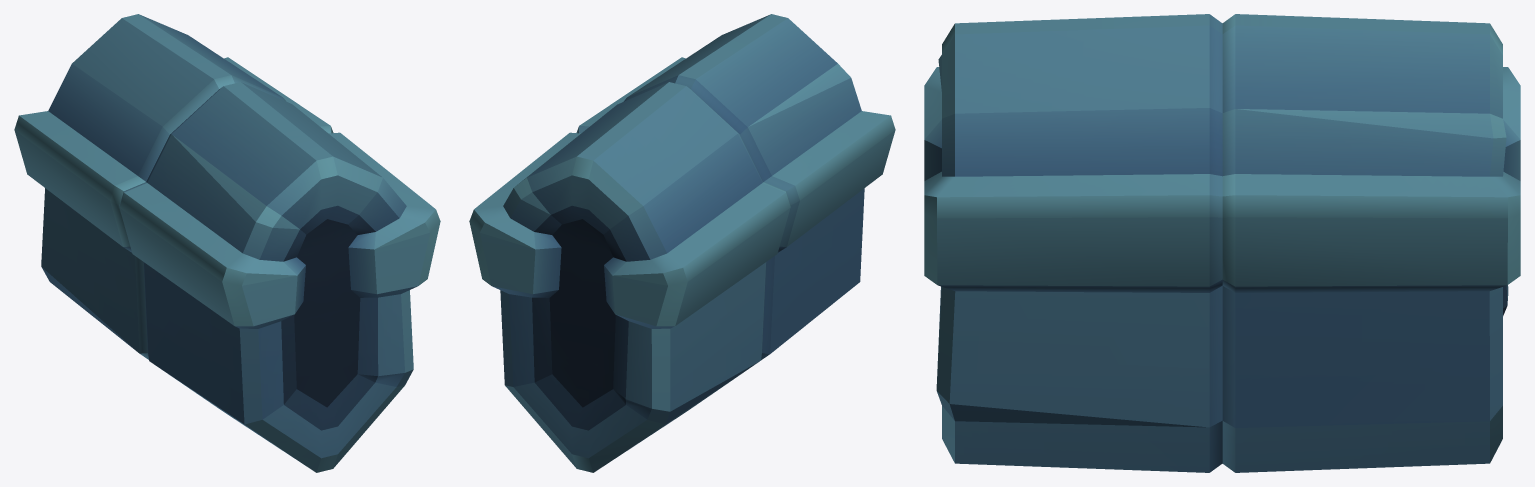
Rendered from ornament_1.fbx.
3 views of the same model, side by side, from view 1: azimuth 30°, elevation 25°; view 2: azimuth 150°, elevation 25°; view 3: azimuth 270°, elevation 25° (orthographic). The views are drawn at different scales.
Parts seen in each view (by area): view 1: ornament_1; view 2: ornament_1; view 3: ornament_1.
Boxes of the visible parts, x1,y1,x2,y2 form: ornament_1: (14,14,440,472); ornament_1: (469,14,895,472); ornament_1: (924,14,1520,472).
Size of the model in its own units: 158 by 218 by 264.
